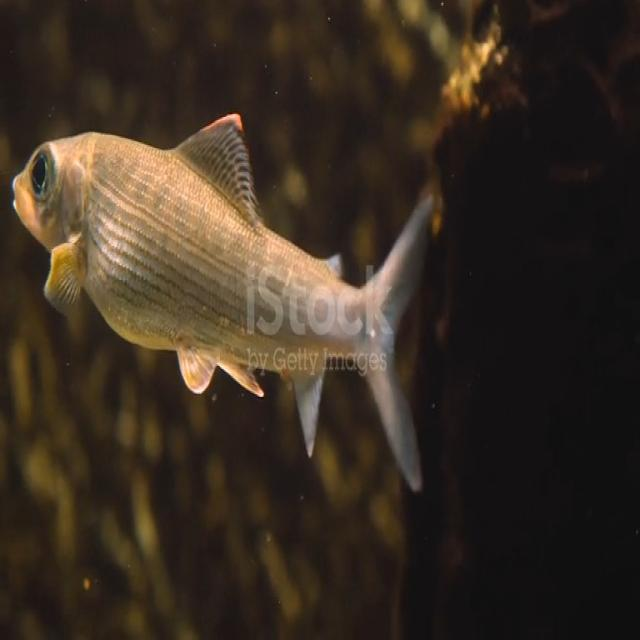fish: (9, 100, 442, 500)
